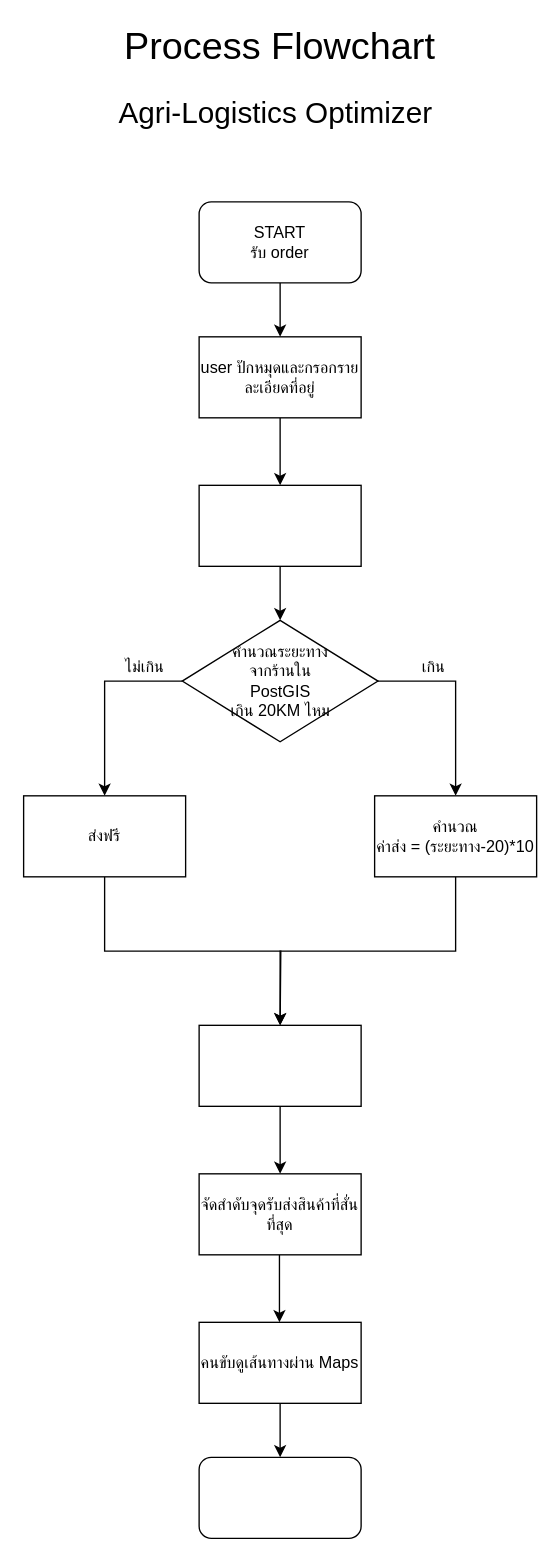
Some shapes in this 560 by 1562 pixel diagram are drawn without their labels. The centre of each missing label's shape, as x and y in pixels:
"END" belongs at [279,1497].
"จัดสินค้าลงรถตาม ความจุ" belongs at [279,1065].
"บันทักน้ำหนักรวมของสินค้าในรายการ" belongs at [279,525].
